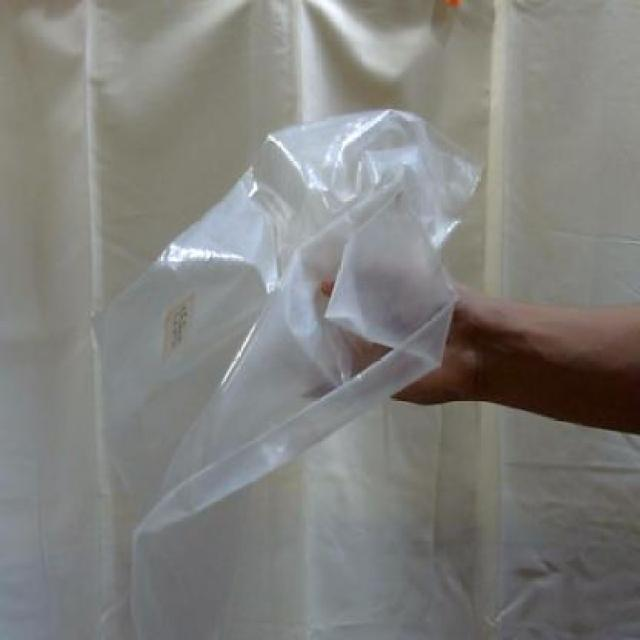Plastic: (84, 94, 487, 531)
